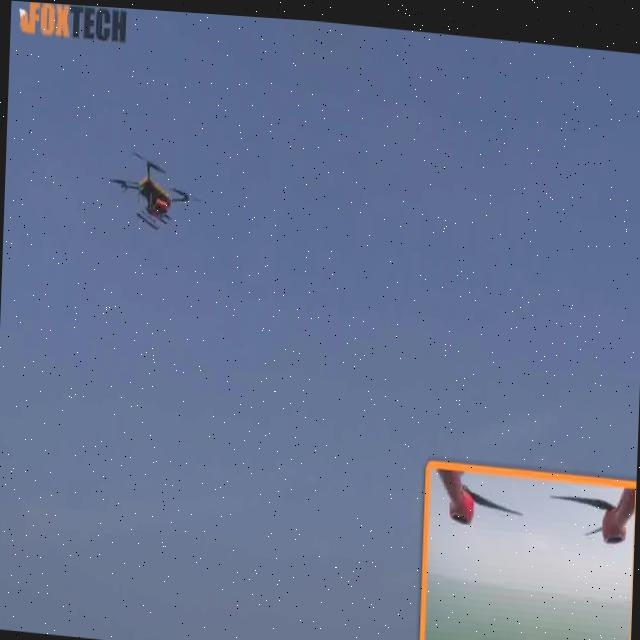drone: (109, 137, 204, 247)
